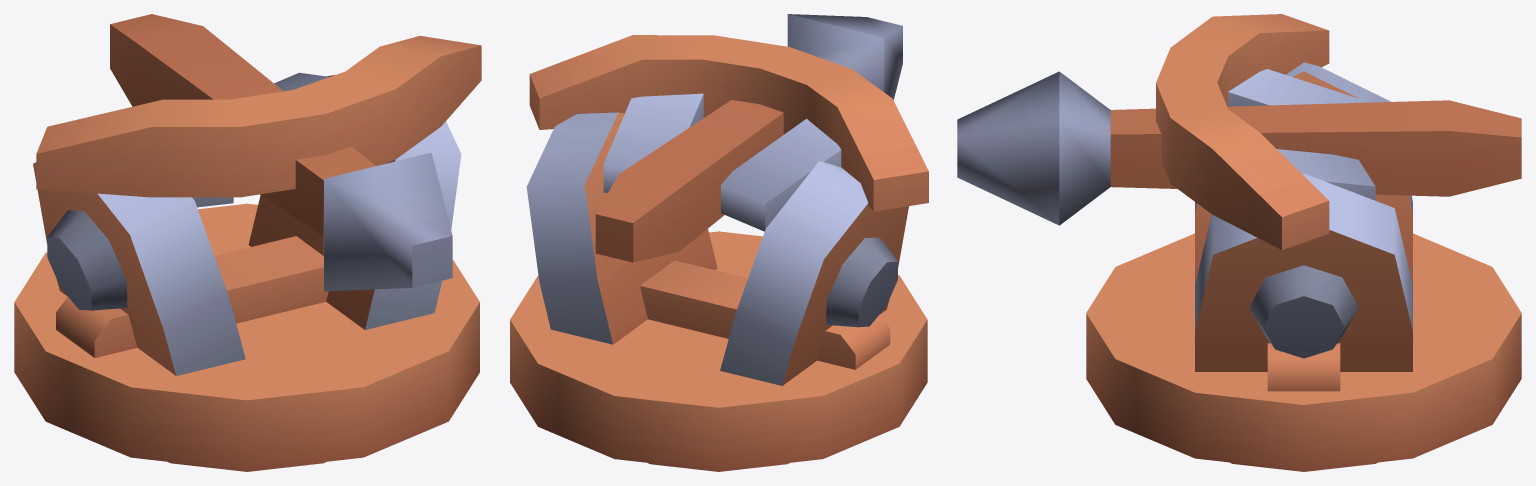
The model's file is kenney-tower-defense-weapon-ballista.glb.
The picture shows the model from 3 angles, left to right: view 1: azimuth 30°, elevation 25°; view 2: azimuth 150°, elevation 25°; view 3: azimuth 270°, elevation 25°; orthographic projection. The views are drawn at different scales.
Parts seen in each view (by area): view 1: weapon-ballista, arrow; view 2: weapon-ballista, arrow; view 3: weapon-ballista, arrow.
Part boxes in pixels (x1,y1,x2,y2): weapon-ballista: [14, 75, 479, 471]; arrow: [36, 14, 481, 291]; weapon-ballista: [510, 112, 927, 471]; arrow: [529, 14, 928, 262]; weapon-ballista: [1086, 62, 1521, 471]; arrow: [957, 14, 1521, 249].
Size of the model in its own units: 0.6626 by 0.5 by 0.7776.
Materials: 1 (1 with a texture image).
